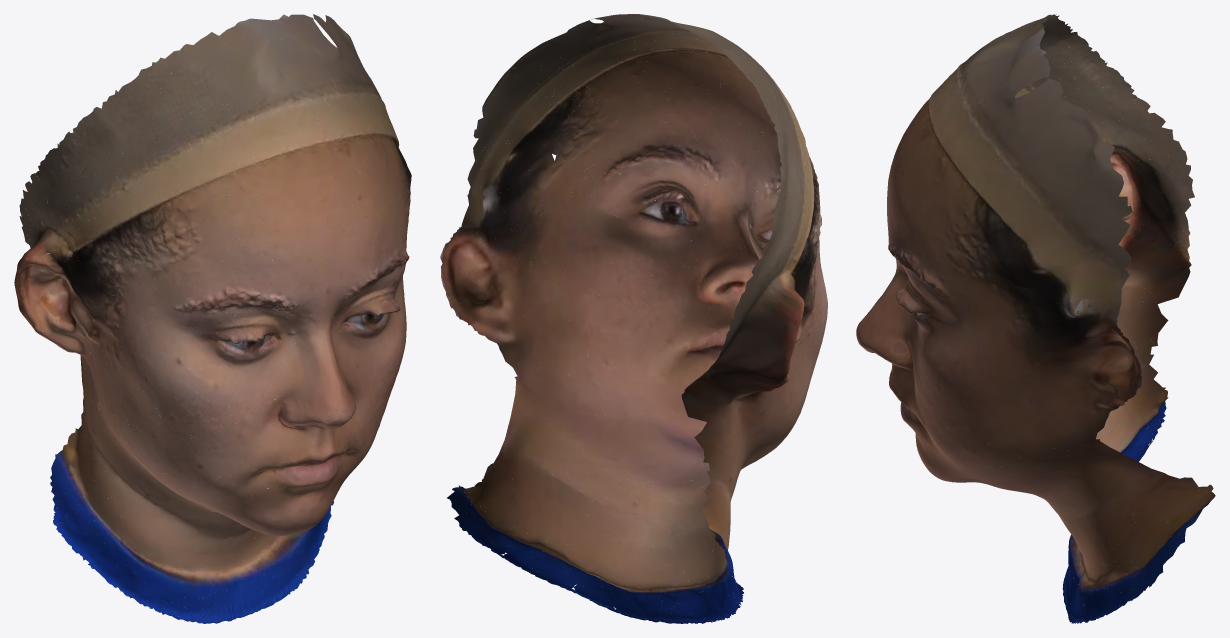
File: 真人头像_女04_opt.glb
3 views of the same model, side by side, from view 1: azimuth 30°, elevation 25°; view 2: azimuth 150°, elevation 25°; view 3: azimuth 270°, elevation 25° (orthographic). The views are drawn at different scales.
Parts seen in each view (by area): view 1: defaultMat, defaultMat_1; view 2: defaultMat, defaultMat_1; view 3: defaultMat, defaultMat_1.
Part boxes in pixels (x1,y1,x2,y2): defaultMat: [14, 14, 411, 623]; defaultMat_1: [15, 14, 408, 622]; defaultMat: [440, 14, 827, 623]; defaultMat_1: [442, 16, 826, 622]; defaultMat: [856, 14, 1215, 623]; defaultMat_1: [856, 15, 1211, 622].
Size of the model in its own units: 0.1871 by 0.3 by 0.17.
Materials: 1 (1 with a texture image).
